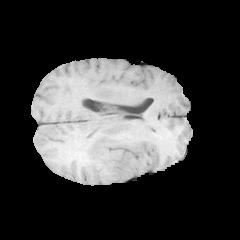glioma: (83, 114, 136, 178)
